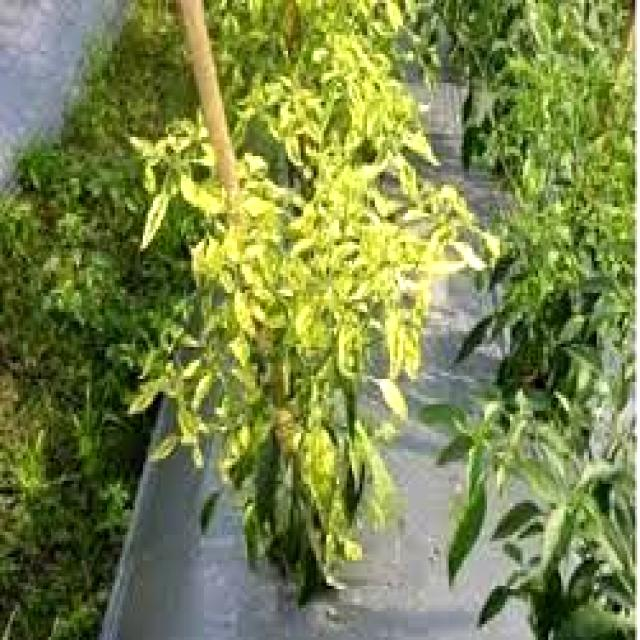yellowish leaf: (129, 32, 508, 590)
